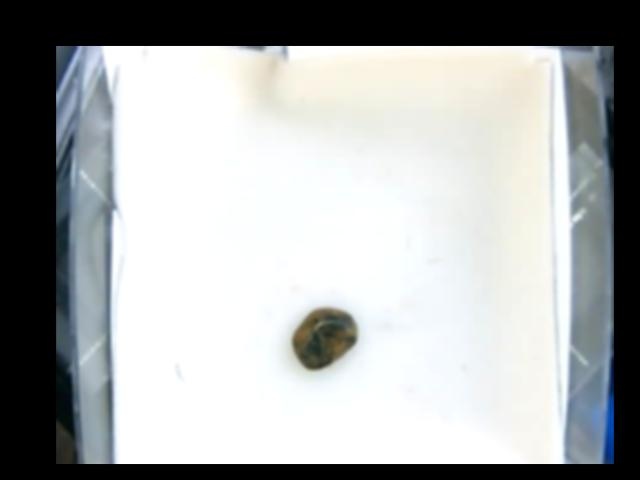Pebble: (292, 309, 362, 370)
